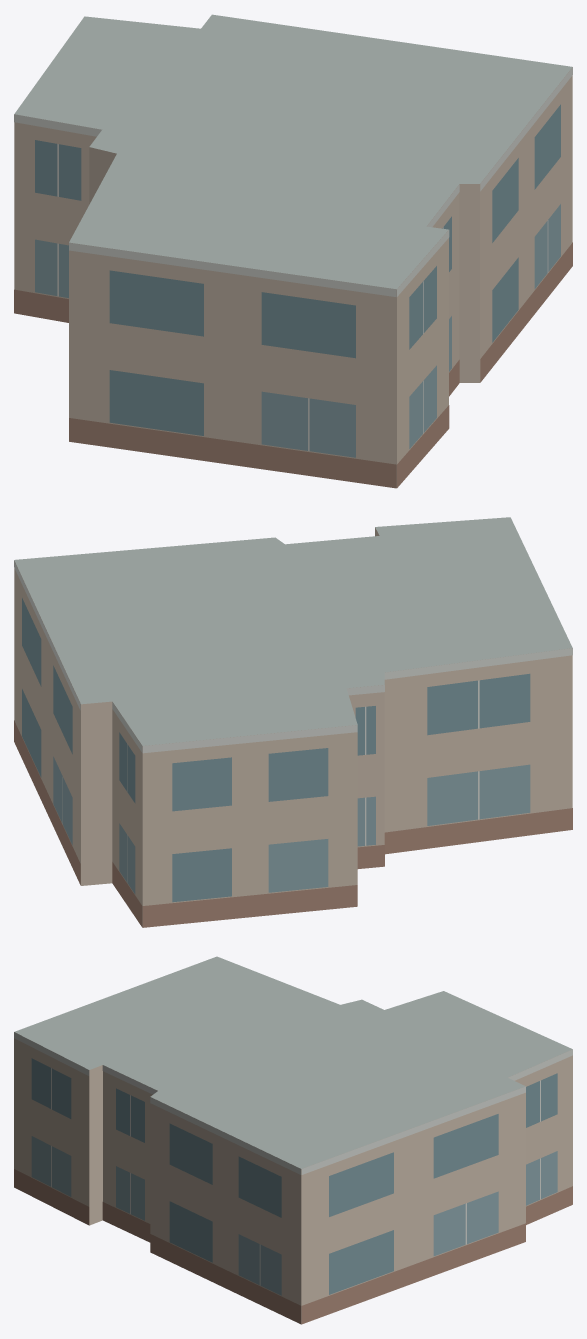
Rendered from survey-upis-32625109.glb.
3 renders of one model, top to bottom at view 1: azimuth 30°, elevation 25°; view 2: azimuth 150°, elevation 25°; view 3: azimuth 270°, elevation 25°, orthographic. The views are drawn at different scales.
Visible parts, largest first — view 1: survey-upis-32625109.tmp; view 2: survey-upis-32625109.tmp; view 3: survey-upis-32625109.tmp.
Part boxes in pixels (x1=…): survey-upis-32625109.tmp: x1=14, y1=14, x2=572, y2=488; survey-upis-32625109.tmp: x1=14, y1=517, x2=572, y2=927; survey-upis-32625109.tmp: x1=14, y1=956, x2=572, y2=1324.
Size of the model in its own units: 17.9 by 6.1 by 19.88.
